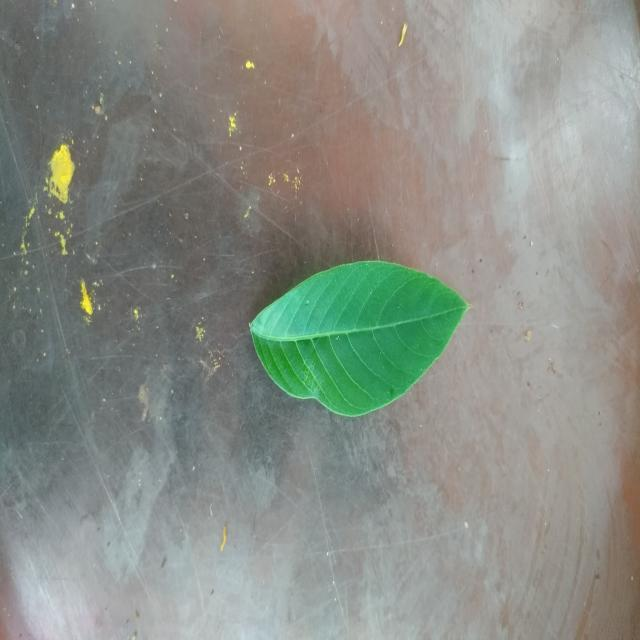leaf: (248, 258, 470, 418)
